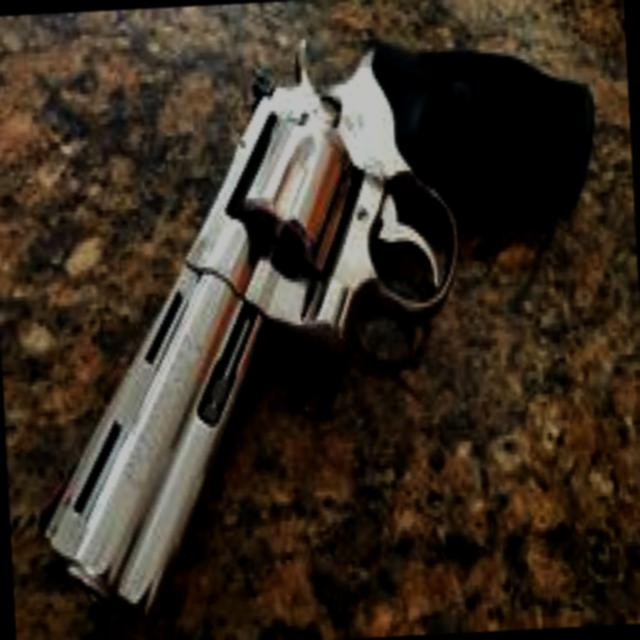revolver: (9, 21, 638, 634)
